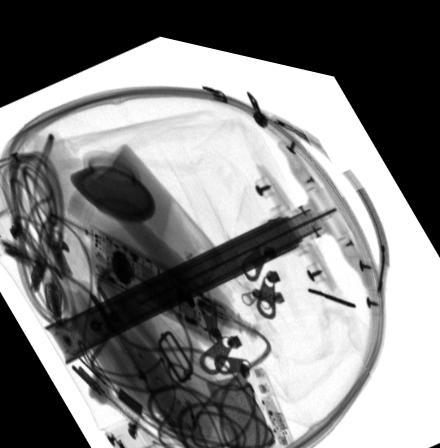Powerbank: (199, 355, 292, 444)
